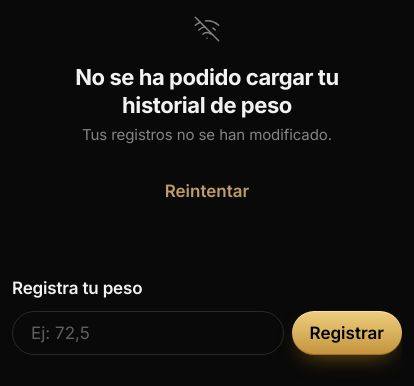
Test: weight progress › shows an explicit retry when the weight history cannot be loaded
The image size is (414, 386).
Click the button "Reintentar" at coordinates (207, 191), box top-left (147, 169), bottom-right (267, 213)
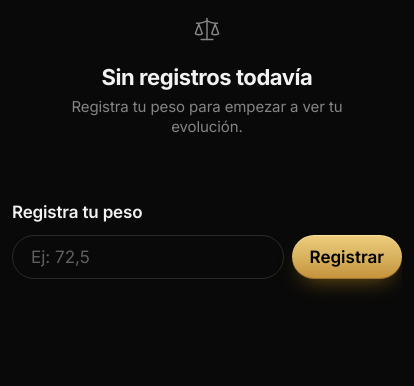
Now the text "Registra tu peso para empezar a ver tu evolución." is shown, box top-left (56, 97), bottom-right (358, 137)
